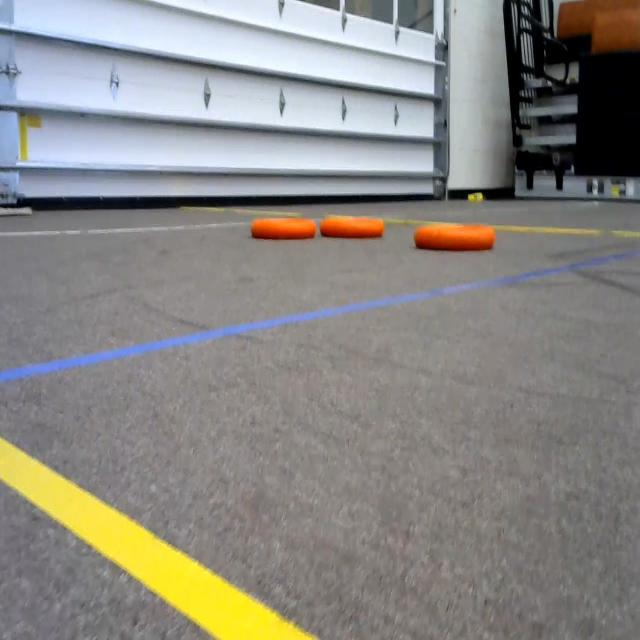note: (415, 209, 504, 258), (240, 207, 322, 247), (319, 204, 393, 245)
